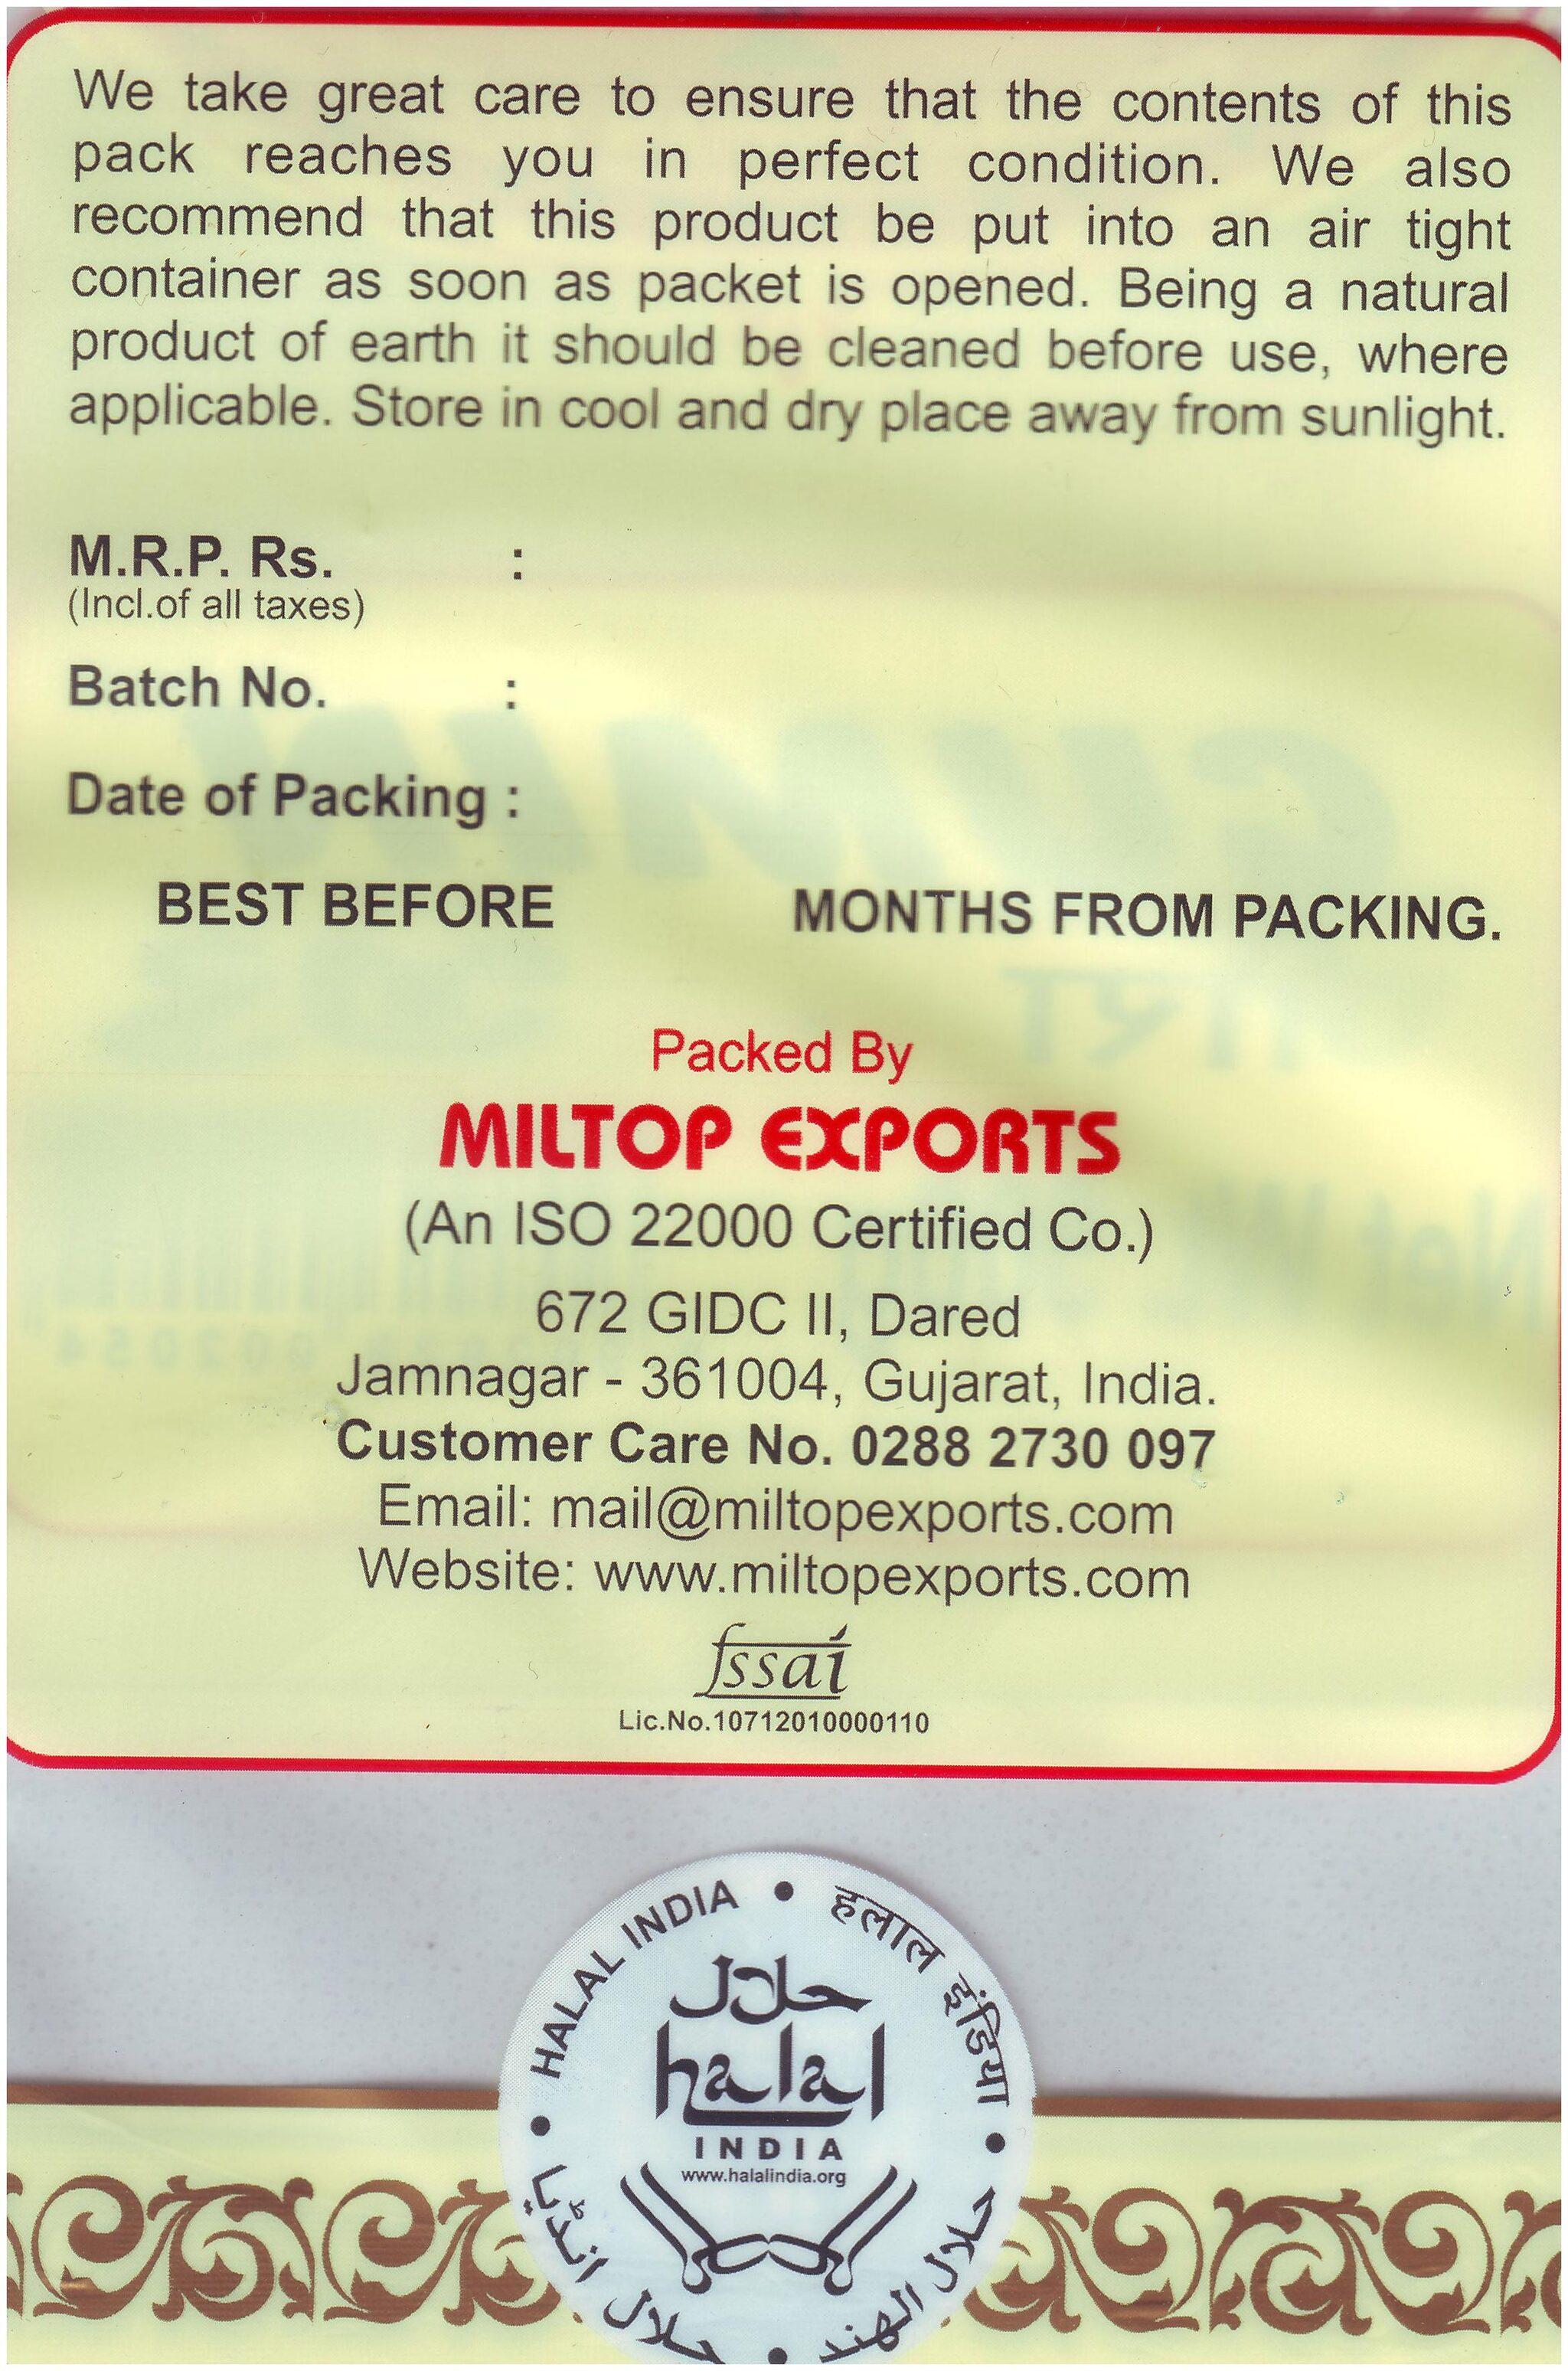fssai: (689, 1610, 873, 1703)
